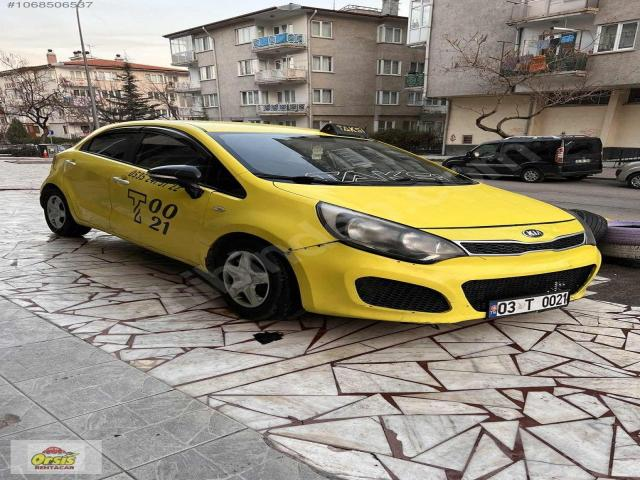plaka: (486, 292, 570, 318)
